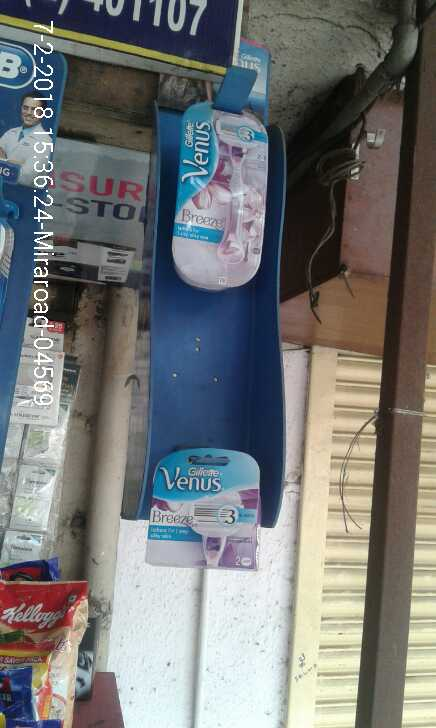home: (170, 87, 266, 297), (144, 441, 266, 576)
